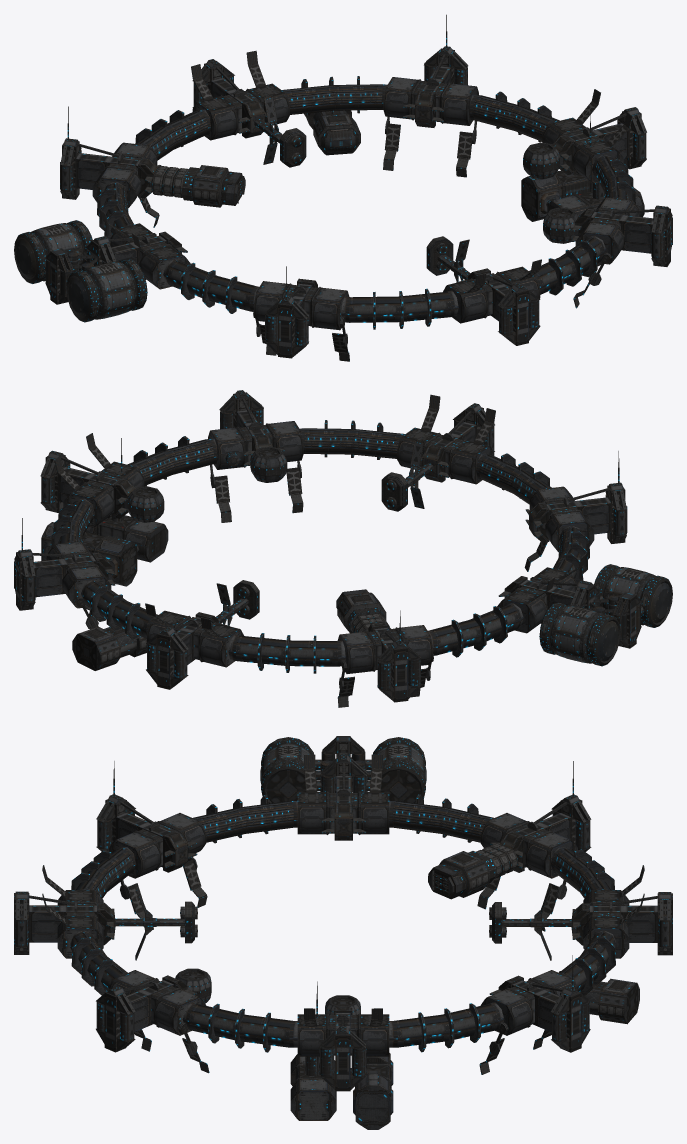
3 views of the same model, one above another, from view 1: azimuth 30°, elevation 25°; view 2: azimuth 150°, elevation 25°; view 3: azimuth 270°, elevation 25° (orthographic). The views are drawn at different scales.
Visible parts, largest first — view 1: SS_Structure_17; view 2: SS_Structure_17; view 3: SS_Structure_17.
Boxes of the visible parts, x1,y1,x2,y2 form: SS_Structure_17: (14,14,672,361); SS_Structure_17: (14,390,672,707); SS_Structure_17: (14,736,672,1129).
Size of the model in its own units: 433 by 94.02 by 400.
Materials: 1 (1 with a texture image).
